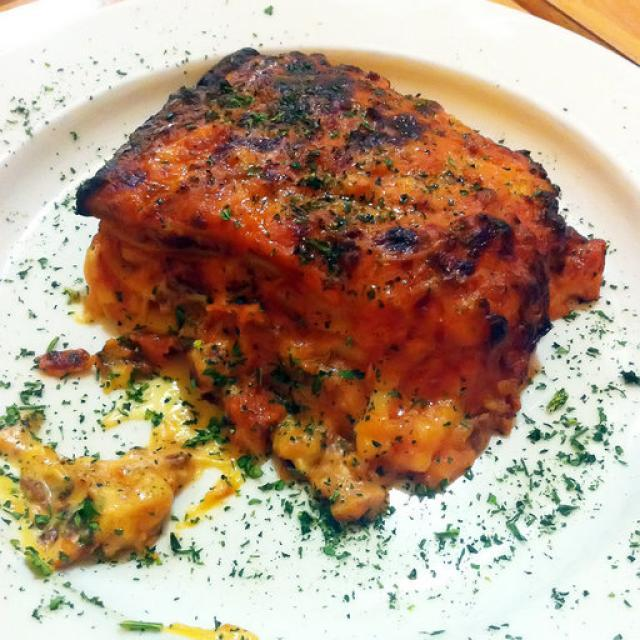Lasagna: (78, 40, 574, 540)
